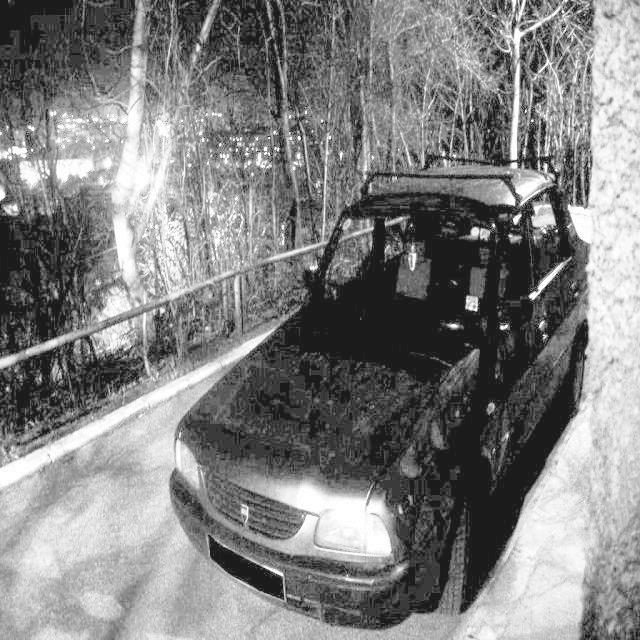Car: (163, 156, 605, 603)
